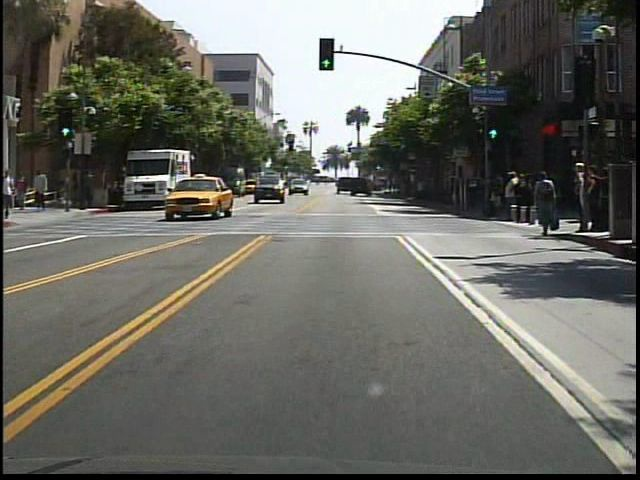person: (529, 168, 558, 236), (502, 166, 520, 226), (33, 165, 54, 214), (5, 168, 22, 220), (84, 168, 101, 209), (17, 171, 33, 213), (71, 169, 84, 206)
